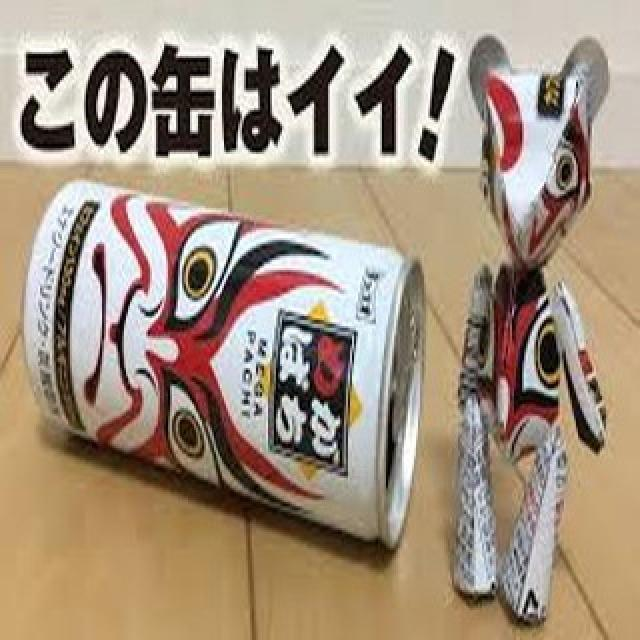can: (28, 182, 430, 555)
